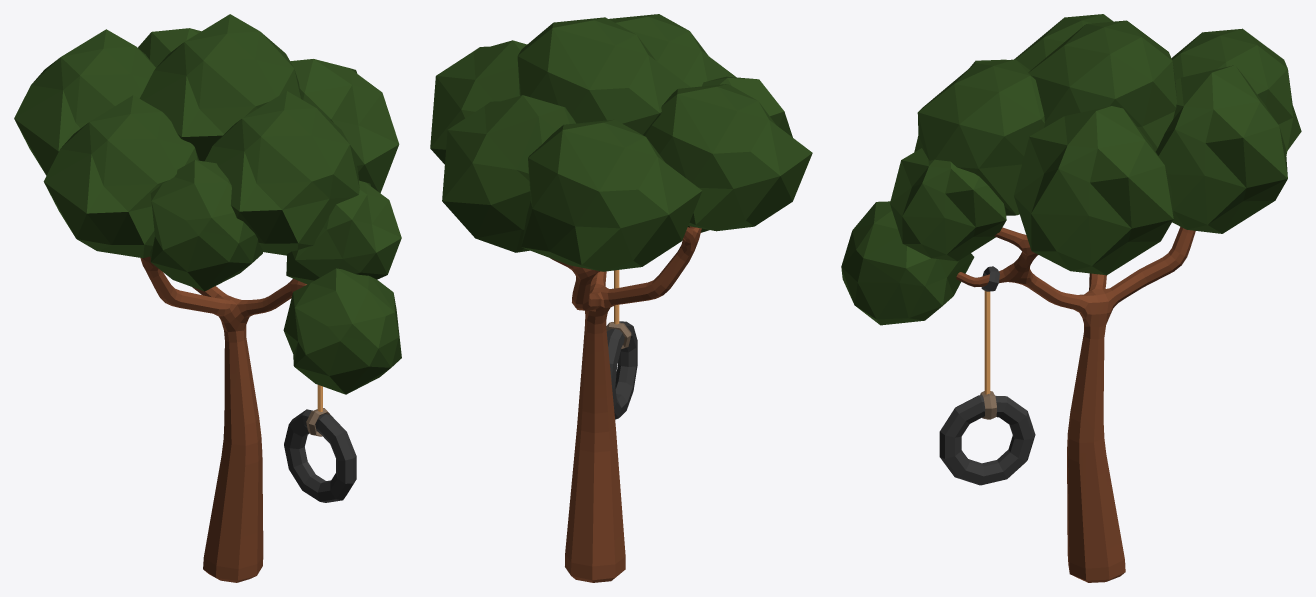
File: Tree_1.glb
3 renders of one model, left to right at view 1: azimuth 30°, elevation 25°; view 2: azimuth 150°, elevation 25°; view 3: azimuth 270°, elevation 25°, orthographic. The views are drawn at different scales.
Visible parts, largest first — view 1: Tree 1; view 2: Tree 1; view 3: Tree 1.
Boxes of the visible parts, box(x1,y1,x2,y2) form: Tree 1: box(14, 14, 401, 582); Tree 1: box(430, 14, 812, 582); Tree 1: box(841, 14, 1301, 582).
Bounding box in the file's own units: 2.32 × 3.72 × 2.83.
